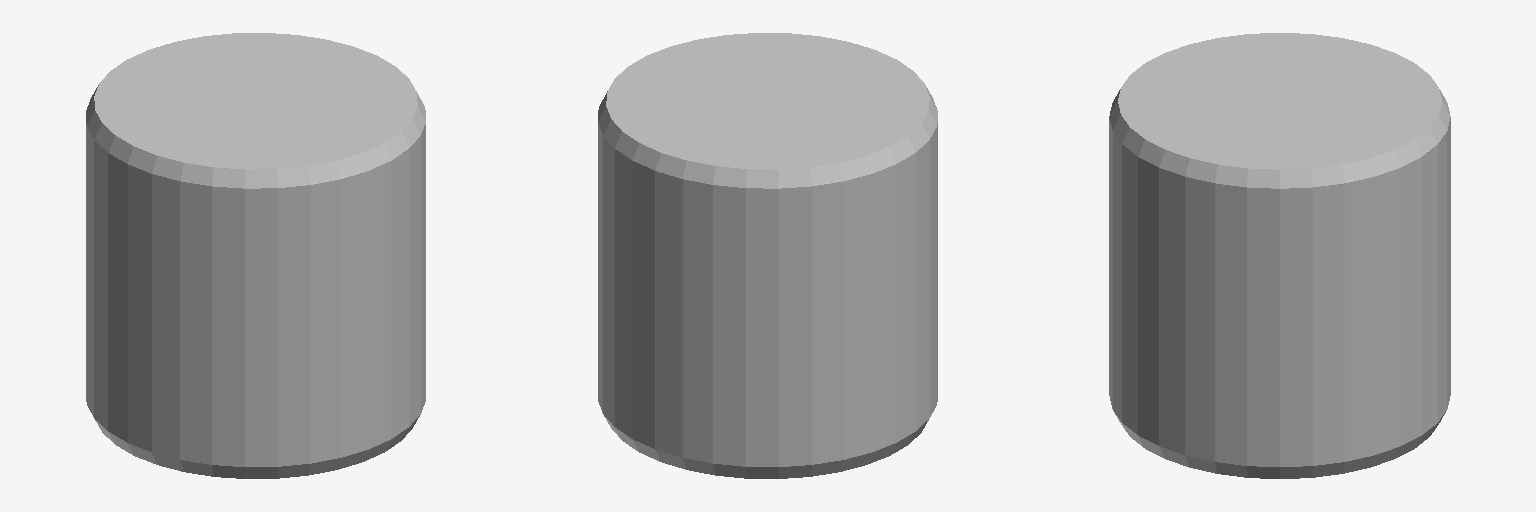
3 views of the same model, side by side, from view 1: azimuth 30°, elevation 25°; view 2: azimuth 150°, elevation 25°; view 3: azimuth 270°, elevation 25° (orthographic).
Parts seen in each view (by area): view 1: Cylinder; view 2: Cylinder; view 3: Cylinder.
Part boxes in pixels (bbox=[...]): Cylinder: bbox=[86, 33, 425, 478]; Cylinder: bbox=[598, 33, 937, 478]; Cylinder: bbox=[1109, 33, 1450, 478].
Size of the model in its own units: 1 by 1 by 1.